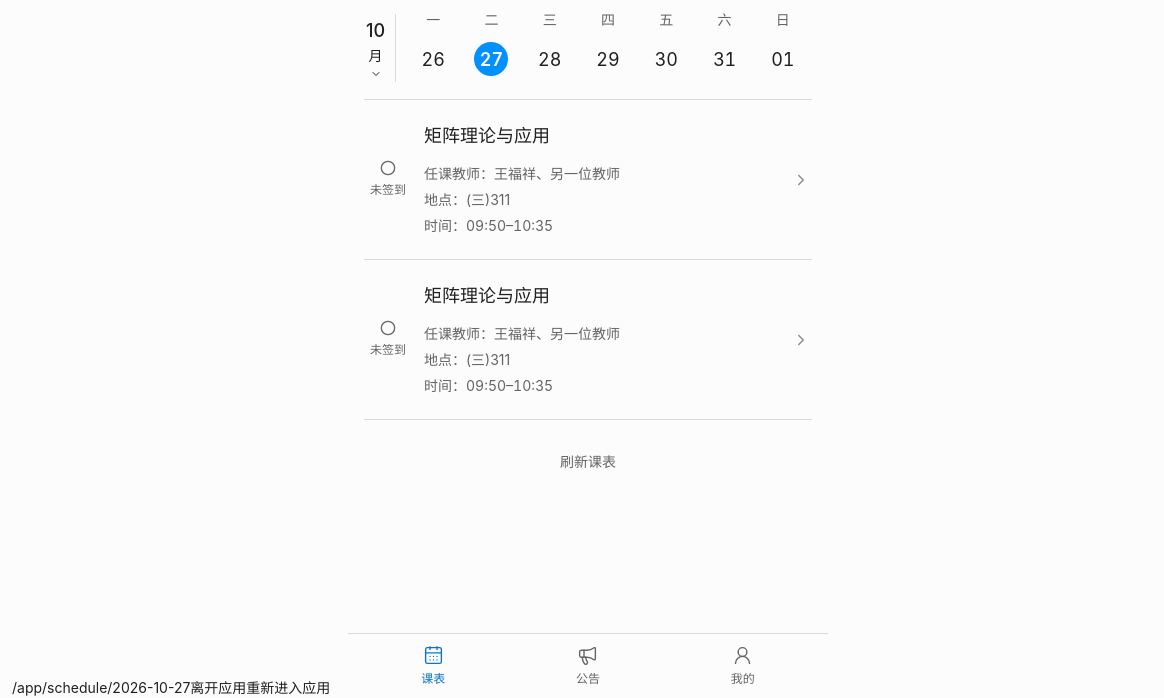
Test: mobile routes and course interactions › checks authorization again after leaving and reentering app, before loading courses
(page scrolled)
Click the link "离开应用" at x=218, y=688, box top-left (190, 679), bottom-right (246, 696)
(page scrolled)
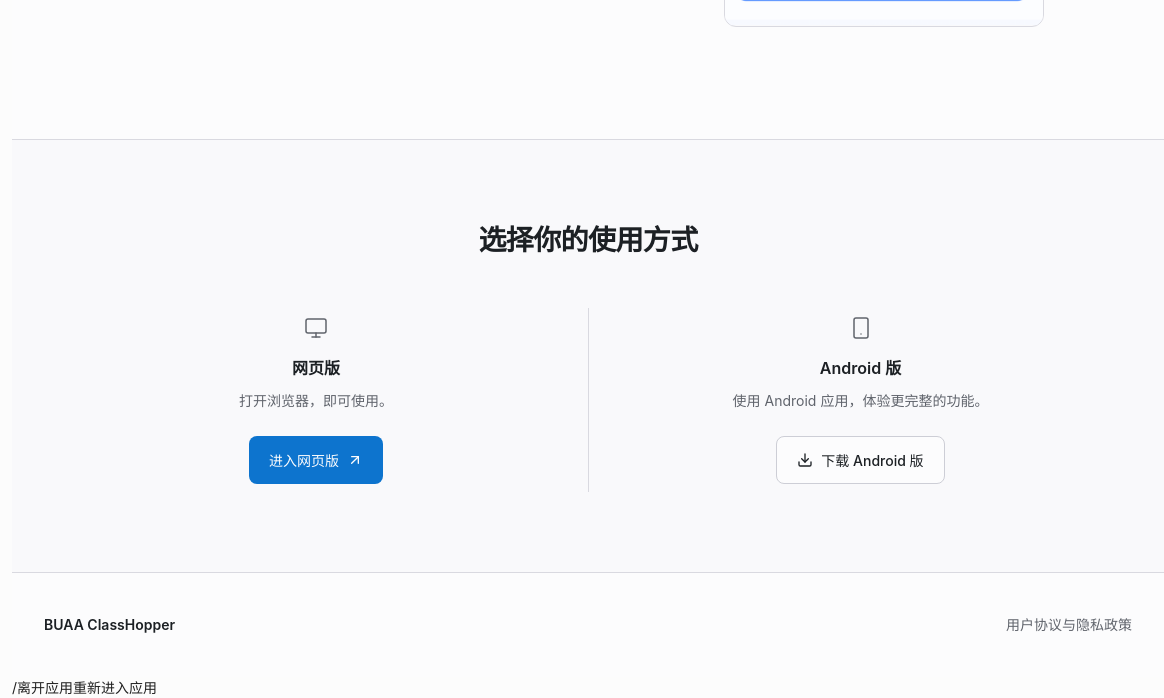
Click the link "重新进入应用" at x=115, y=688, box top-left (73, 680), bottom-right (157, 696)
(page scrolled)
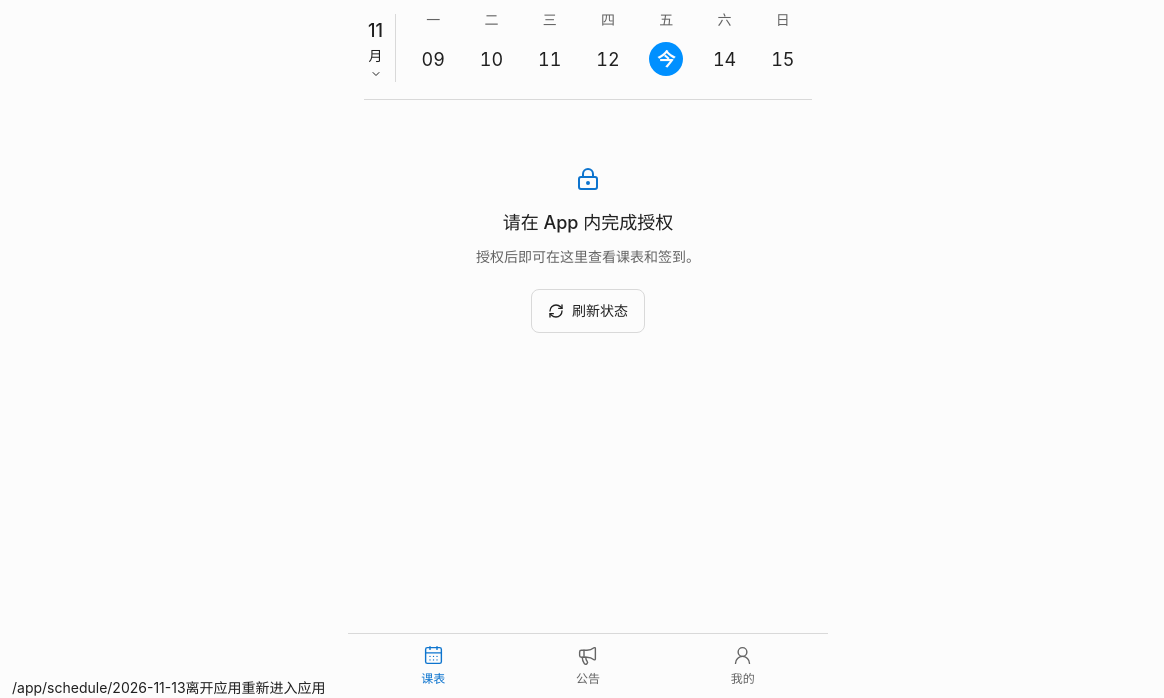
Expected: the heading "请在 App 内完成授权" is shown, top-left (503, 209), bottom-right (673, 237)
